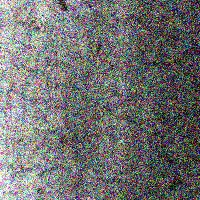crazing: (4, 57, 137, 185), (145, 45, 200, 200), (91, 4, 200, 62)
